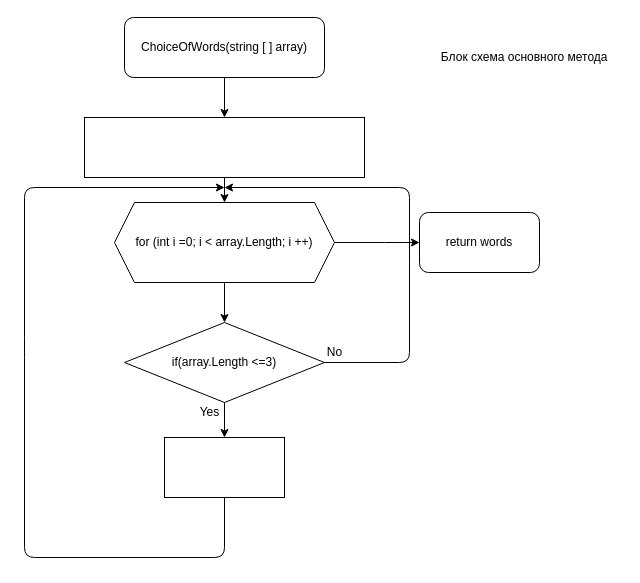
Some shapes in this 640 by 583 pixel diagram are drawn without their labels. Here are the shapes that lost their labels. From the top down, the centre of each, then its label:
point (224, 147): int j =0 string [ ] words = new array [10]
point (224, 467): words [ j ] = array [ i ] j = j + 1
